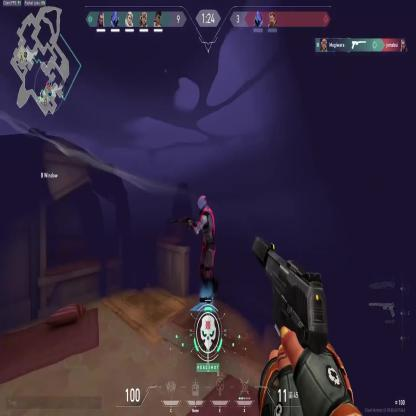enemy: (187, 192, 218, 310)
enemy_head: (197, 194, 206, 210)
